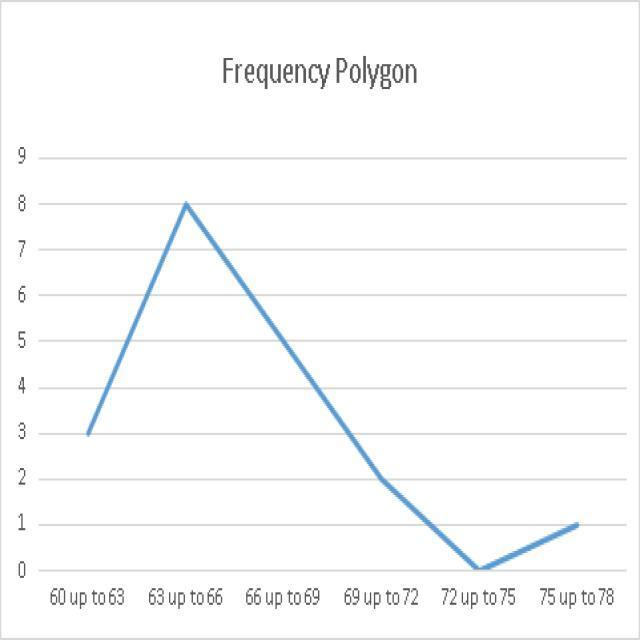axis: (30, 563, 630, 578), (27, 141, 44, 584)
line: (79, 193, 584, 573)
